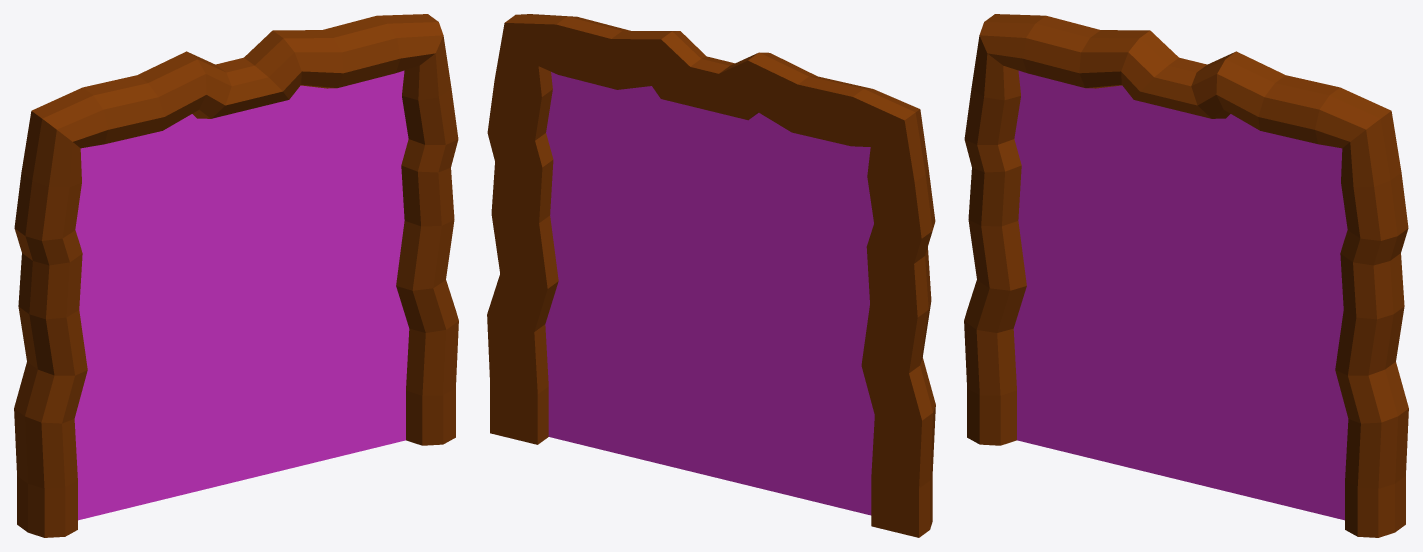
The model's file is forest_level_exit.glb.
3 renders of one model, left to right at view 1: azimuth 30°, elevation 25°; view 2: azimuth 150°, elevation 25°; view 3: azimuth 330°, elevation 25°, orthographic.
Visible parts, largest first — view 1: Exit; view 2: Exit; view 3: Exit.
Boxes of the visible parts, x1,y1,x2,y2 form: Exit: (14,14,458,537); Exit: (487,14,935,537); Exit: (964,14,1408,537).
Size of the model in its own units: 2.28 by 2.18 by 0.225.
